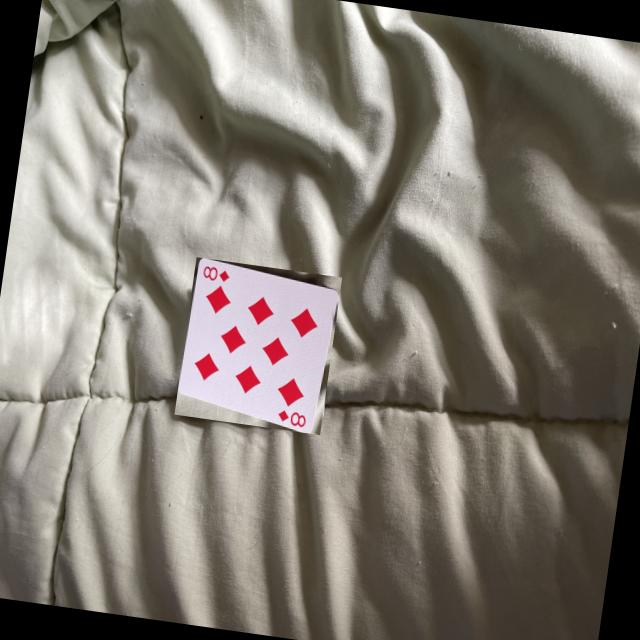8 of diamonds: (179, 258, 339, 431)
